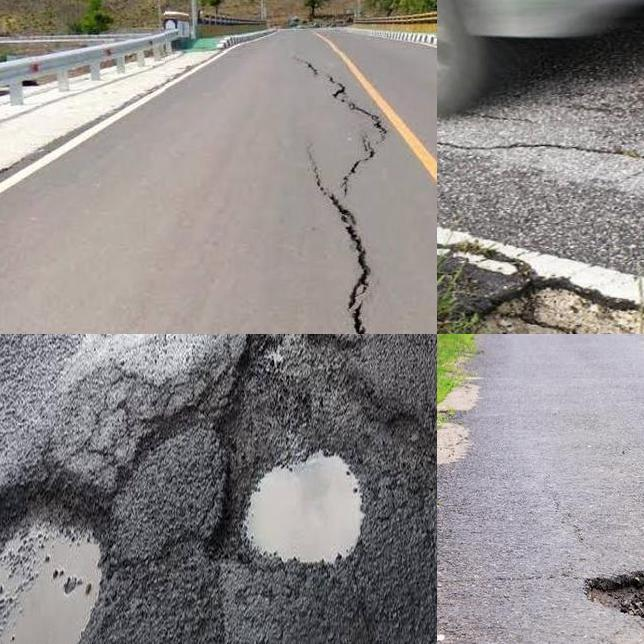Lubang: (226, 427, 373, 560), (0, 477, 109, 644)
Memanjang: (302, 59, 395, 334)
Pinggir: (437, 244, 644, 334)
